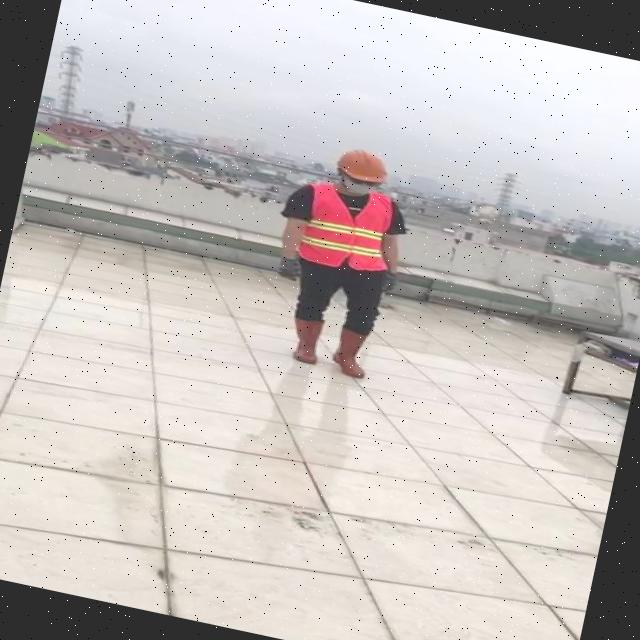boots: (328, 324, 376, 380), (282, 313, 330, 367)
helmet: (325, 141, 396, 189)
vest: (292, 180, 404, 277)
